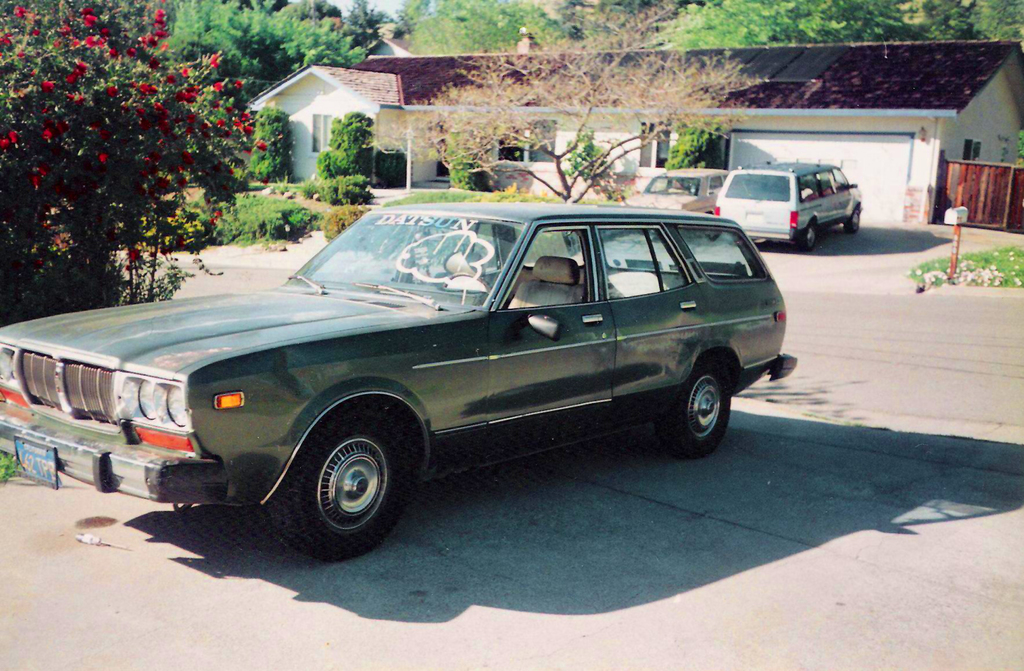Car: (0, 204, 798, 557), (715, 163, 858, 250), (626, 169, 727, 216)
